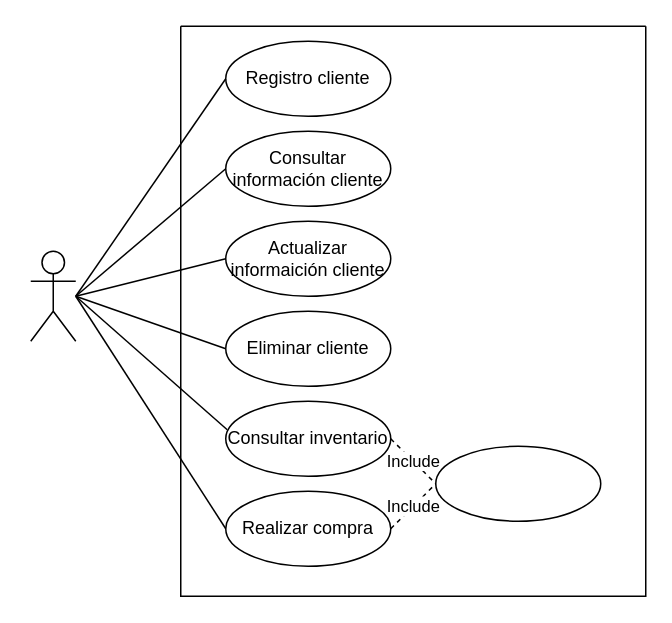
The diagram is 672 pixels wide and 623 high, and some of its shapes have lost their labels. Each missing label, with the centre of its shape:
Cliente: (52,295)
Verificar disponibilidad: (517,483)
